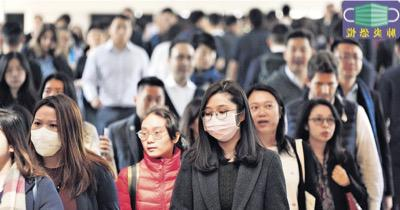with_mask: (203, 102, 239, 143), (30, 116, 62, 155)
without_mask: (140, 124, 173, 157), (250, 99, 280, 133), (309, 112, 336, 141), (337, 50, 363, 78), (138, 91, 164, 119), (288, 44, 312, 72), (172, 51, 194, 79), (312, 79, 337, 101), (4, 63, 26, 88), (111, 22, 133, 44), (195, 49, 217, 69), (39, 35, 56, 52)
